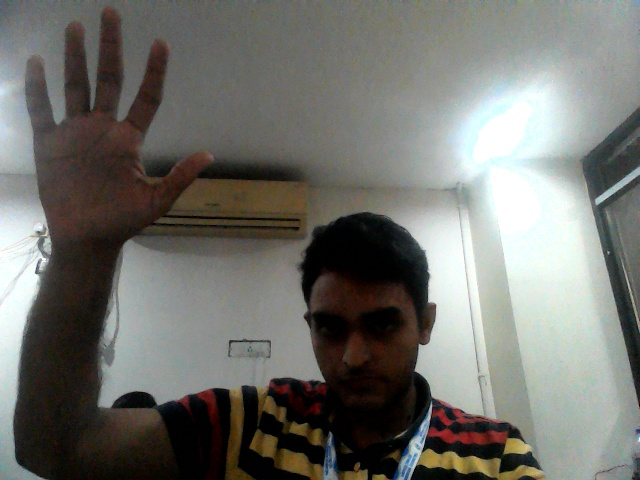palm: (20, 5, 217, 247)
